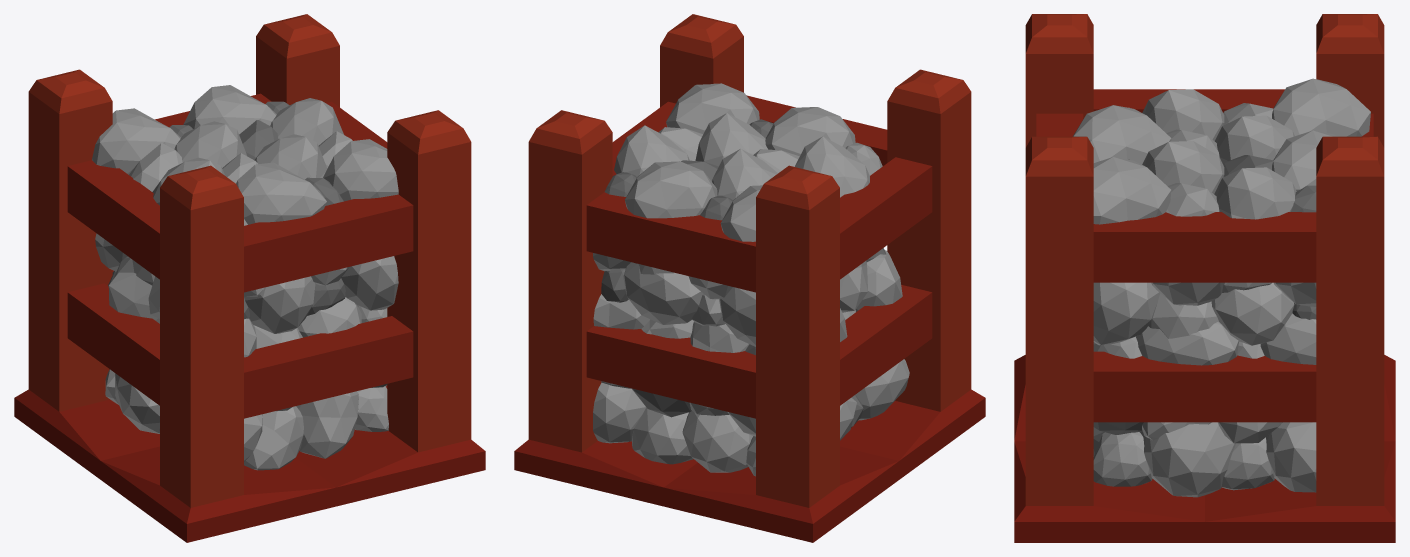
File: RocksSack.fbx
3 renders of one model, left to right at view 1: azimuth 30°, elevation 25°; view 2: azimuth 150°, elevation 25°; view 3: azimuth 270°, elevation 25°, orthographic. The views are drawn at different scales.
Parts seen in each view (by area): view 1: RockHolder; view 2: RockHolder; view 3: RockHolder.
Boxes of the visible parts, left/top/right/bottom form: RockHolder: left=14, top=14, right=485, bottom=542; RockHolder: left=514, top=14, right=985, bottom=542; RockHolder: left=1014, top=14, right=1395, bottom=542.
Bounding box in the file's own units: 200 × 220 × 200.
